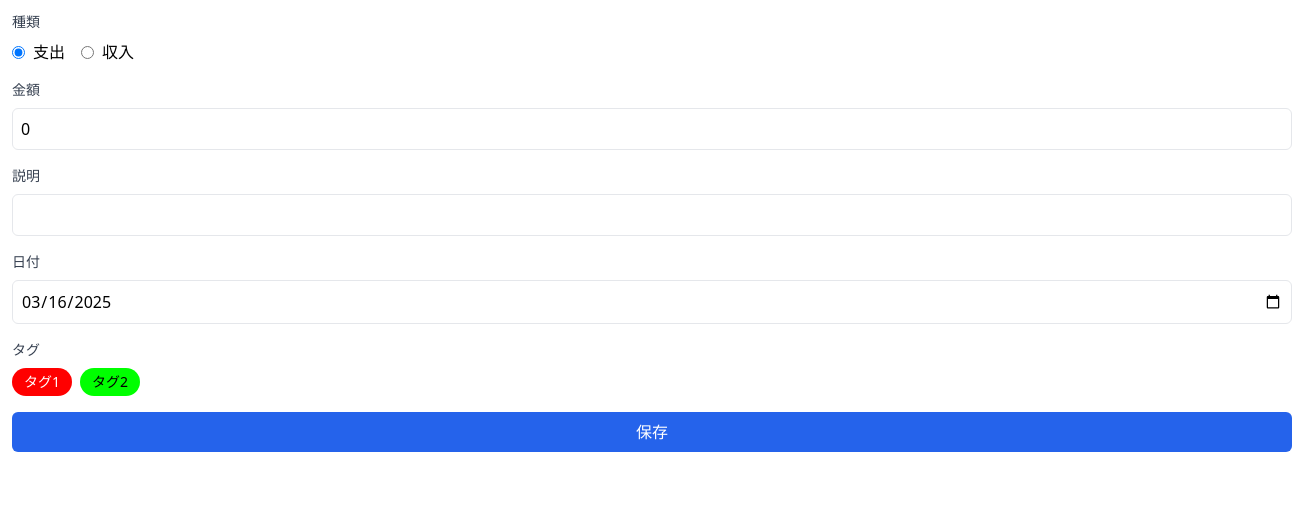
Scenario: TransactionForm › 必須フィールドが空の場合にエラーが表示されること
The image size is (1304, 525).
Click the button "保存" at (652, 432), box [12,412,1292,452]
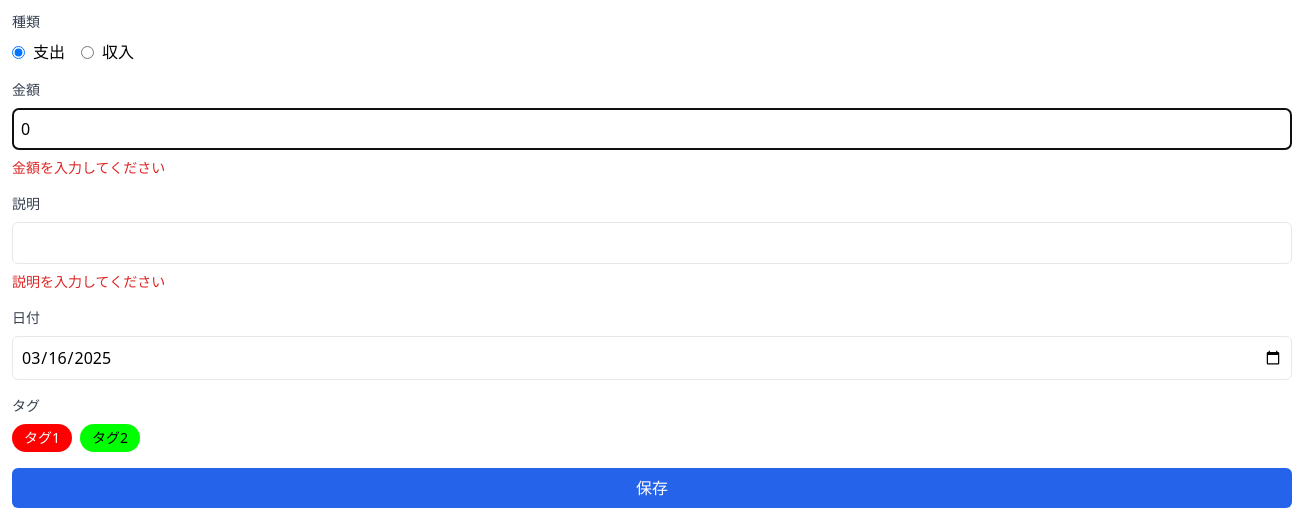
Check: the text "金額を入力してください" is shown, box [12,158,165,177]
Check: the text "説明を入力してください" is shown, box [12,272,165,291]
